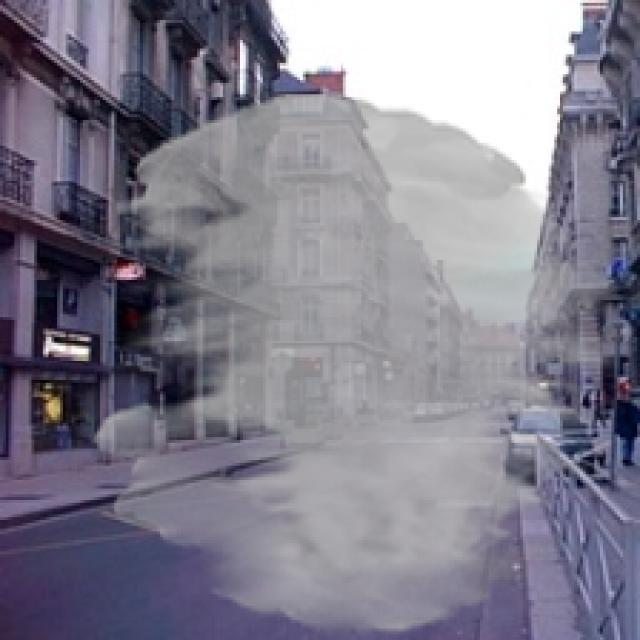Smoke: (94, 95, 623, 634)
